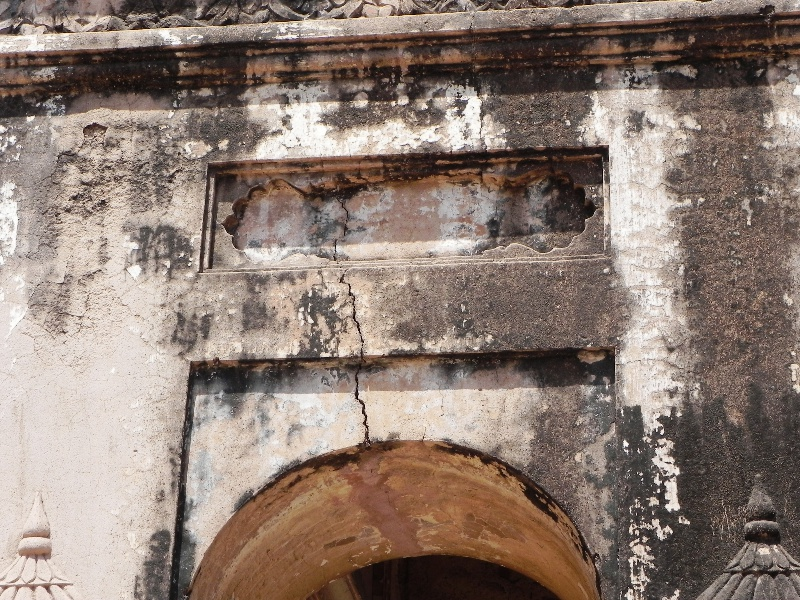Crack: (336, 261, 373, 456)
